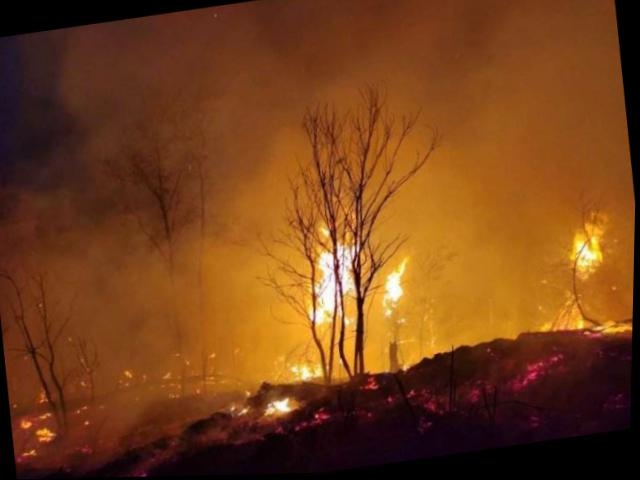fire: (296, 232, 368, 329), (15, 389, 63, 458), (377, 253, 417, 320), (567, 227, 611, 278), (289, 358, 328, 388), (265, 397, 296, 417)
